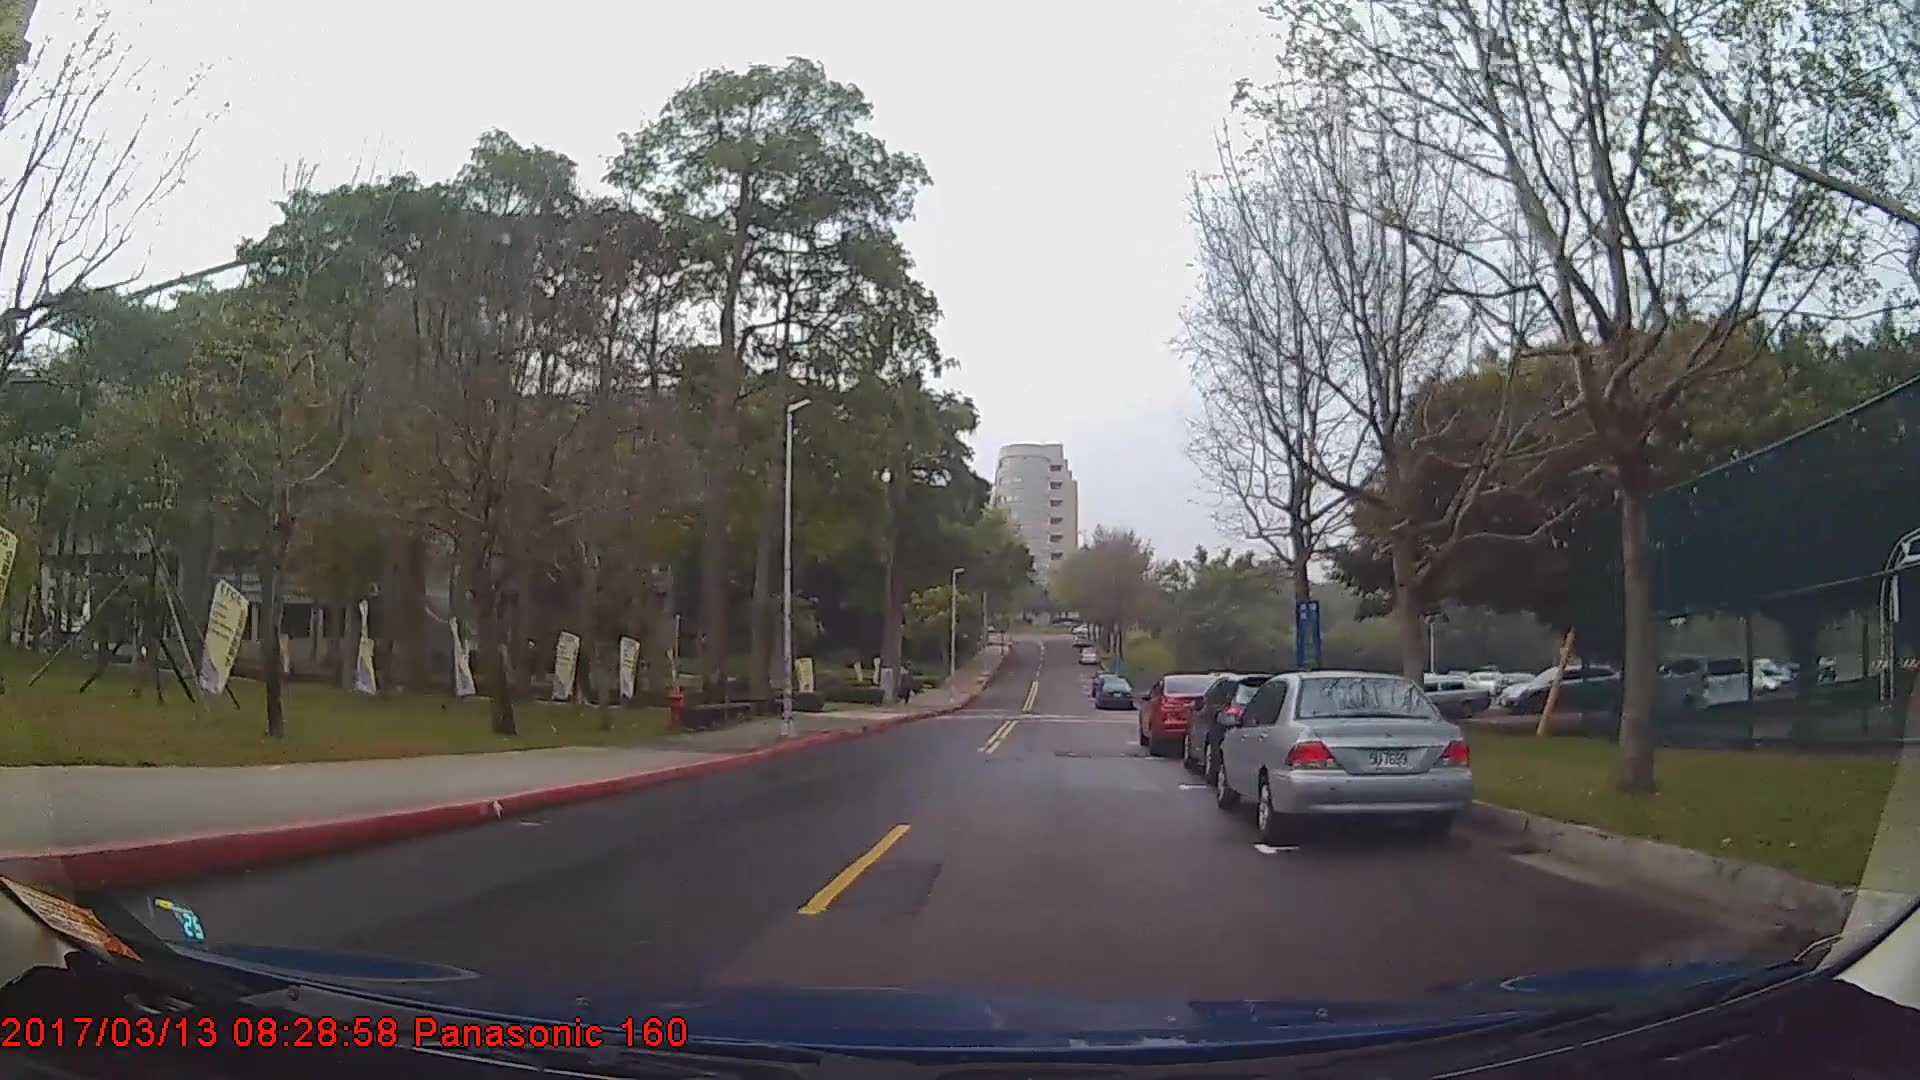vehicle: (1216, 667, 1477, 839), (1182, 673, 1317, 783), (1137, 669, 1238, 756), (1642, 655, 1749, 717), (1495, 663, 1623, 713), (1399, 671, 1490, 721), (1095, 675, 1133, 711)
